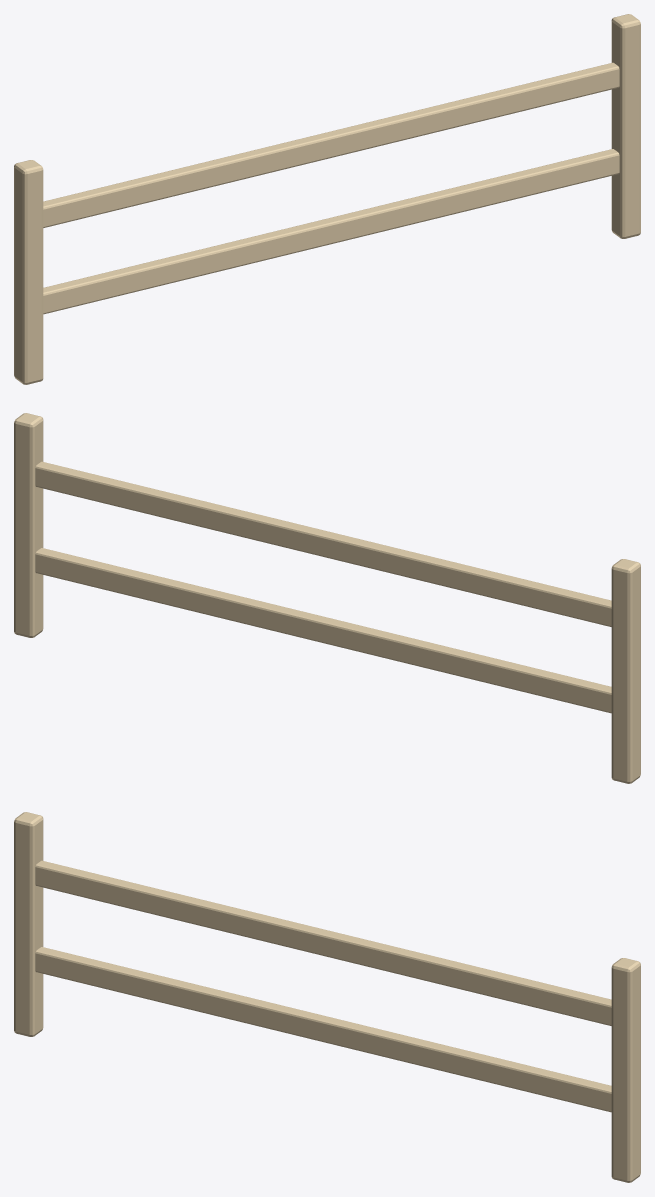
The model's file is Horse_Fence.fbx.
The picture shows the model from 3 angles, top to bottom: view 1: azimuth 30°, elevation 25°; view 2: azimuth 150°, elevation 25°; view 3: azimuth 330°, elevation 25°; orthographic projection.
Parts seen in each view (by area): view 1: Fence; view 2: Fence; view 3: Fence.
Part boxes in pixels (x1,y1,x2,y2): Fence: (14, 14, 640, 384); Fence: (14, 413, 640, 783); Fence: (14, 812, 640, 1182).
Size of the model in its own units: 3 by 1 by 0.1.
